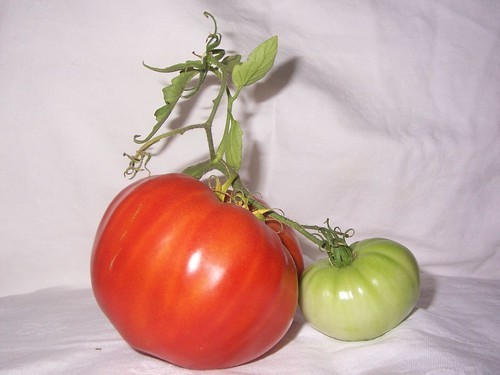tomato: (90, 173, 304, 368)
